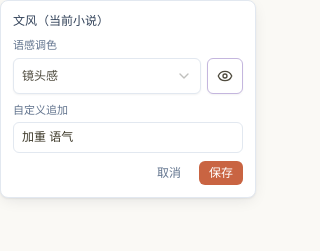
it: ProseStylePanel › 已有自定义追加内容时默认渲染为只读 Markdown，点击后切回可编辑 textarea
Expected: the text "镜头感" is shown, [22,68,58,84]
Click the button titled "点击编辑". click: (128, 137)
box: [13,122,243,152]
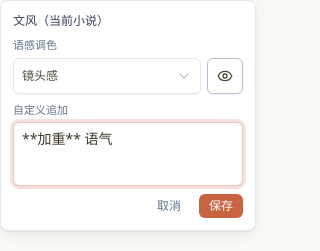
Expected: the text box with placeholder "可选：本书额外文风要求（支持 Markdown）" holds "**加重** 语气", [13,122,243,186]
